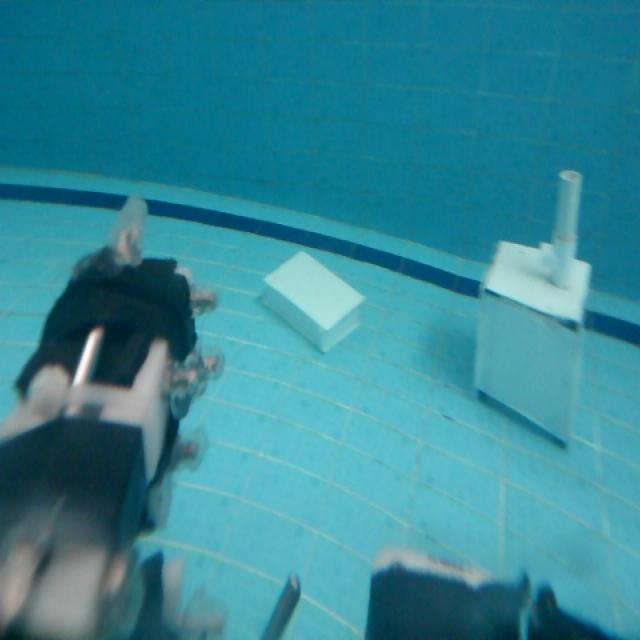Cube: (470, 238, 600, 454)
Cuboid: (260, 247, 367, 353)
